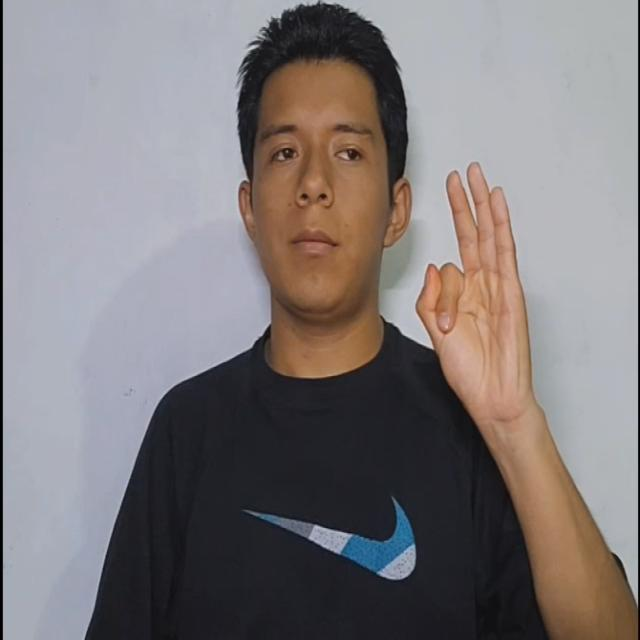F: (414, 142, 560, 442)
